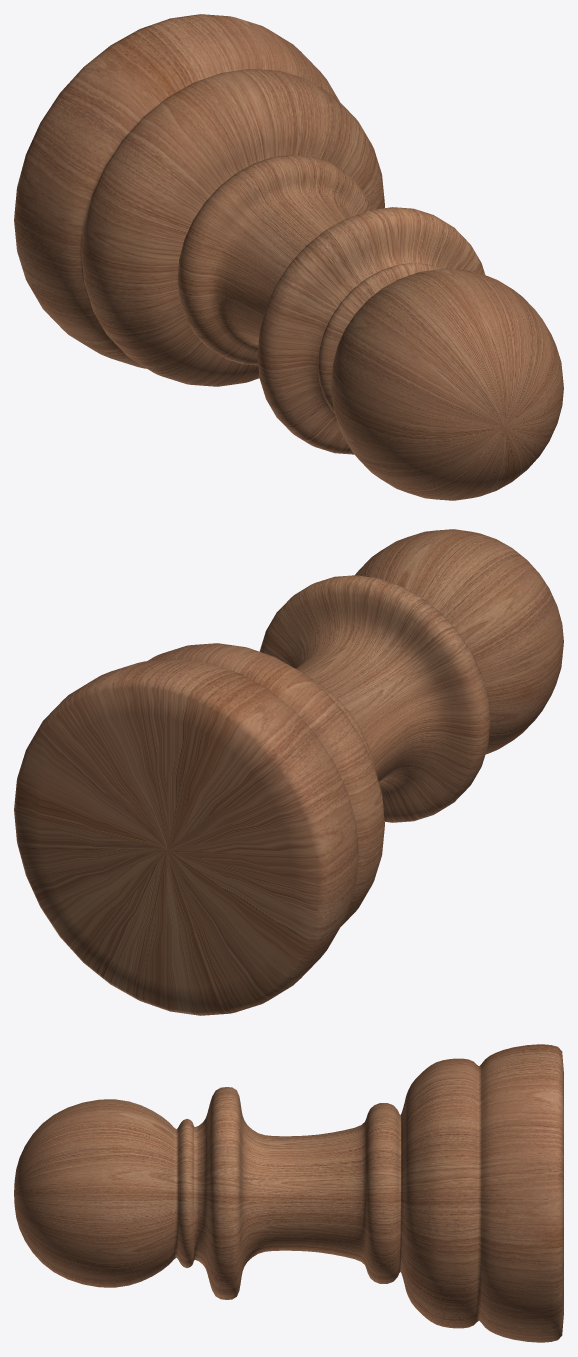
Rendered from pawn.obj.
The picture shows the model from 3 angles, top to bottom: view 1: azimuth 30°, elevation 25°; view 2: azimuth 150°, elevation 25°; view 3: azimuth 270°, elevation 25°; orthographic projection. The views are drawn at different scales.
Visible parts, largest first — view 1: pawn_Plane.002; view 2: pawn_Plane.002; view 3: pawn_Plane.002.
Part boxes in pixels (bbox=[...]): pawn_Plane.002: bbox=[14, 14, 563, 500]; pawn_Plane.002: bbox=[14, 529, 563, 1015]; pawn_Plane.002: bbox=[14, 1044, 563, 1342].
Size of the model in its own units: 1.05 by 1.05 by 1.92.
